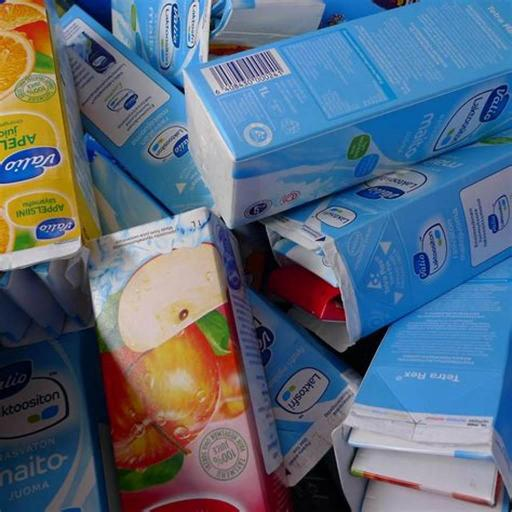drink carton: (184, 0, 512, 230), (82, 204, 294, 512), (265, 141, 512, 355), (0, 0, 108, 276)
